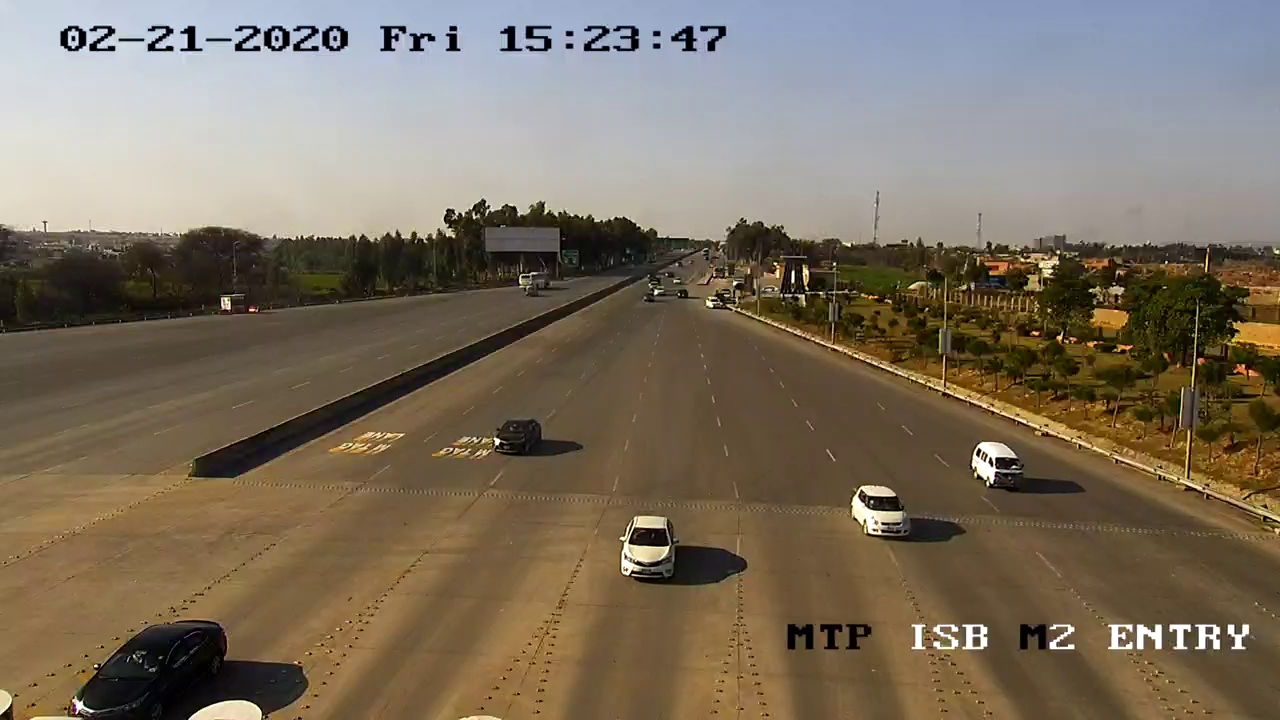f1: (615, 508, 685, 589), (847, 475, 917, 547), (968, 433, 1033, 501)
